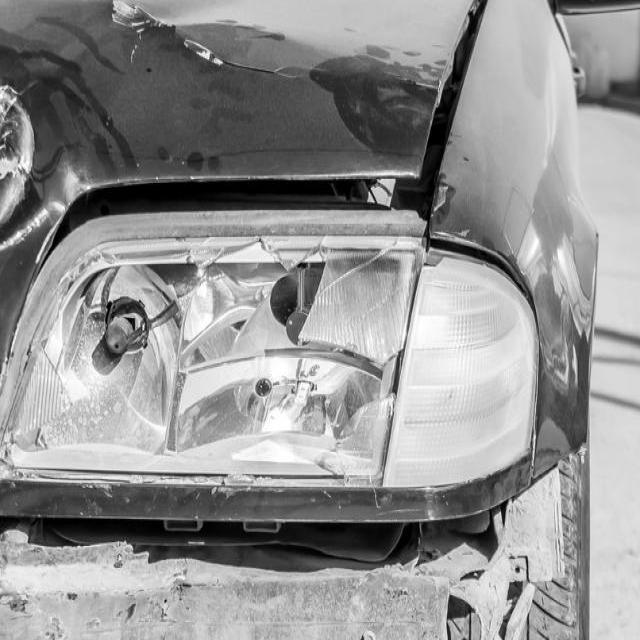Dent: (0, 338, 49, 444), (222, 618, 402, 639), (548, 472, 565, 580), (212, 19, 285, 40), (272, 64, 320, 80), (221, 472, 252, 487), (157, 145, 169, 161), (114, 552, 123, 566), (146, 66, 150, 70)
